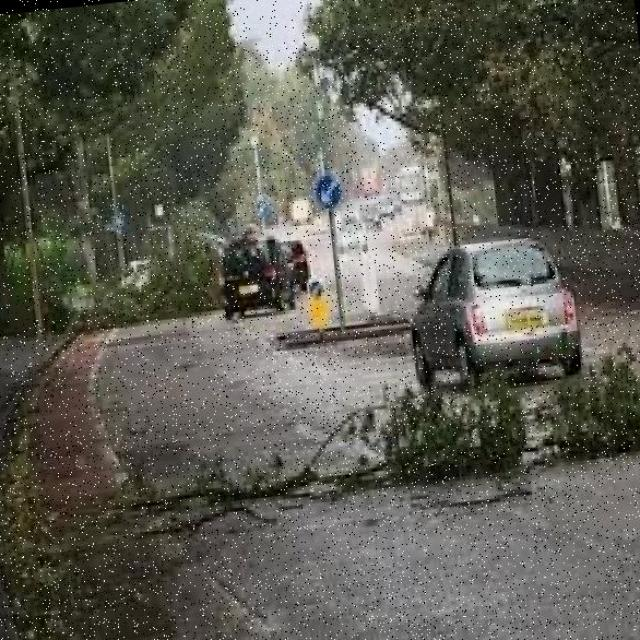fallen_object: (94, 333, 640, 548), (47, 236, 244, 336)
